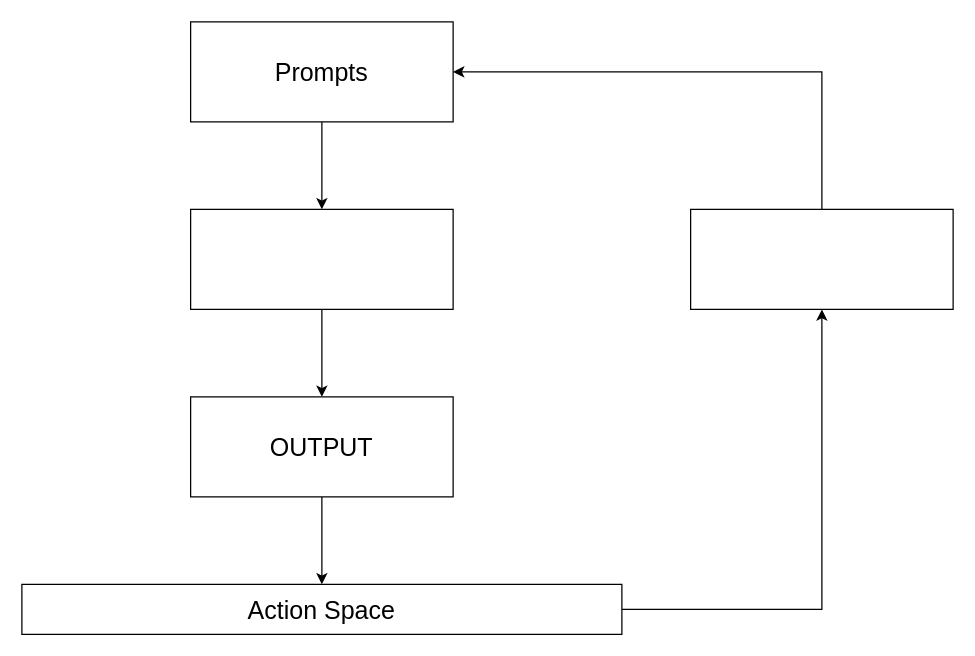
Some shapes in this 975 by 656 pixel diagram are drawn without their labels. The shapes that lost their labels are listed below. From the top down, each one's centre as x and y in pixels, then its label:
point (321, 258): GPT-3.5
point (821, 258): Env: ProbSol
